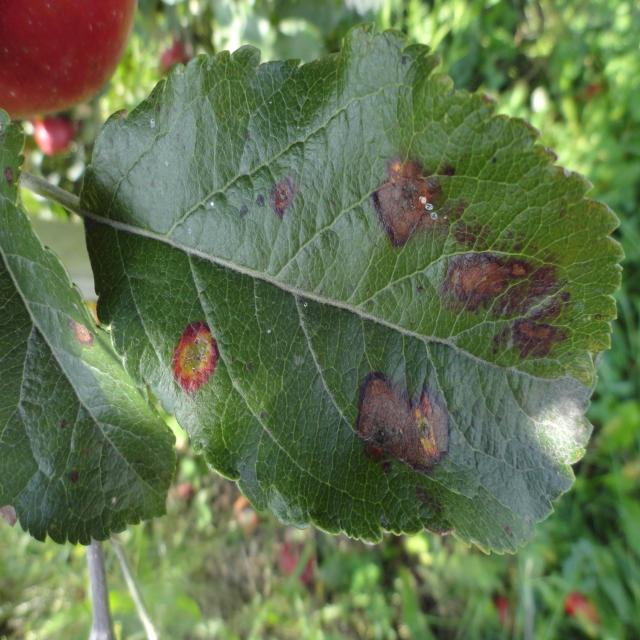rust: (78, 23, 627, 556)
